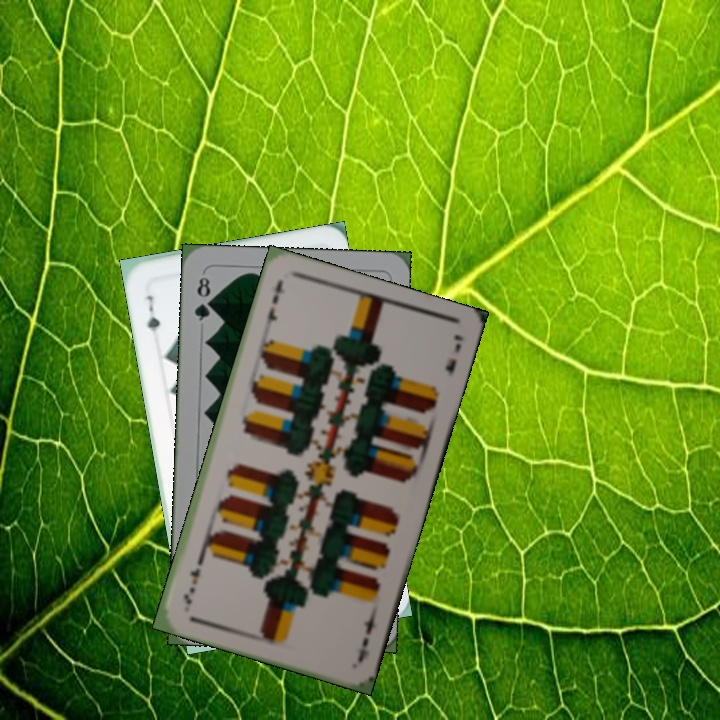E7: (353, 606, 380, 665), (260, 274, 286, 333)
G7: (143, 291, 163, 334)
G8: (190, 273, 214, 324)
